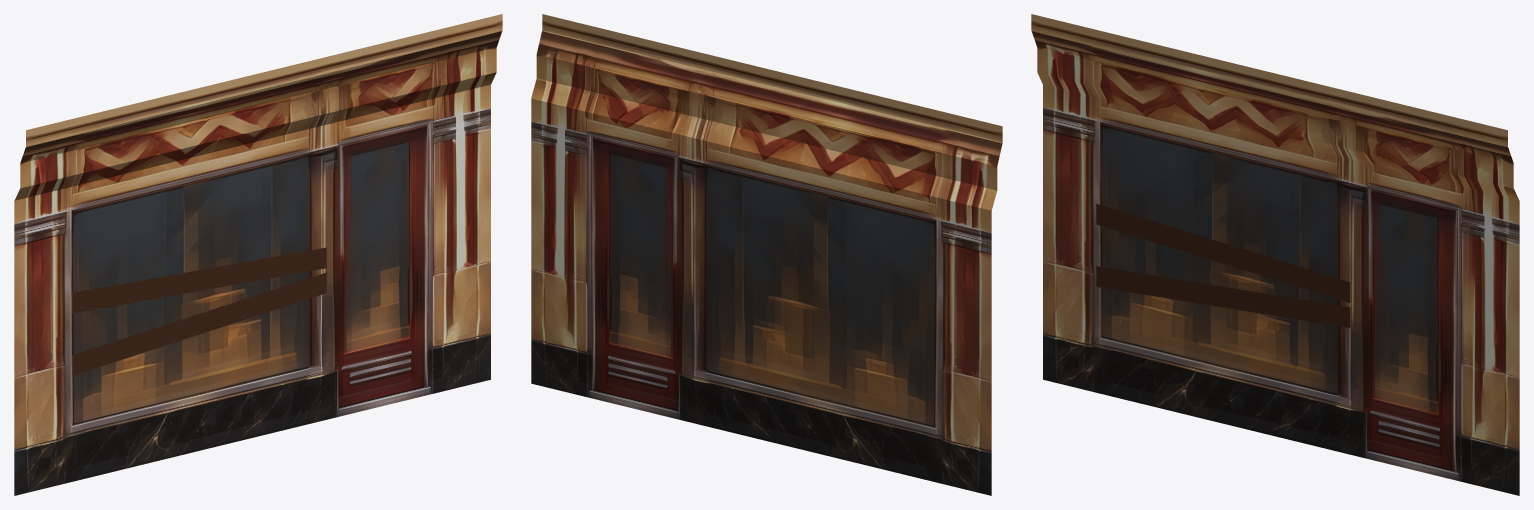
File: DECO_Damaged_G_Bay6.fbx
3 renders of one model, left to right at view 1: azimuth 30°, elevation 25°; view 2: azimuth 150°, elevation 25°; view 3: azimuth 330°, elevation 25°, orthographic. The views are drawn at different scales.
Parts seen in each view (by area): view 1: DECO_Damaged_G_Bay6; view 2: DECO_Damaged_G_Bay6; view 3: DECO_Damaged_G_Bay6.
Part boxes in pixels (x1,y1,x2,y2): DECO_Damaged_G_Bay6: (14,14,502,495); DECO_Damaged_G_Bay6: (531,14,1002,495); DECO_Damaged_G_Bay6: (1031,14,1519,495).
Bounding box in the file's own units: 6 × 0.25 × 4.5.
1 material, 1 textured.
